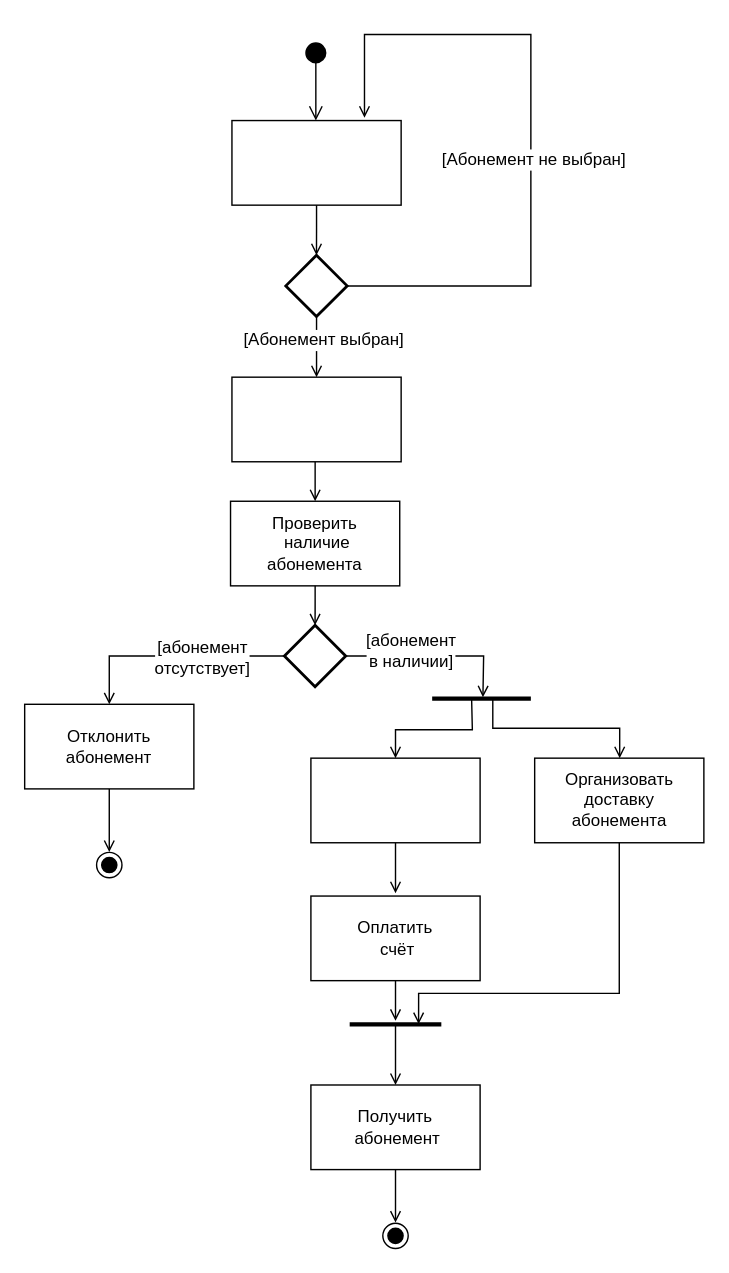
This 729x1273 diagram has some shape labels left out. Each missing label, with the centre of its shape:
"Выбрать абонемент" goes at [316,162].
"Оформить абонемент" goes at [316,419].
"Оформить счёт" goes at [394,800].
